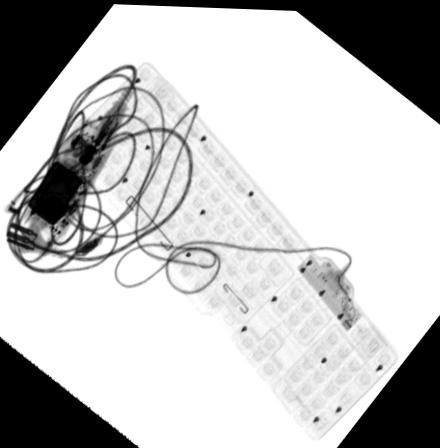Lighter: (27, 161, 82, 225)
